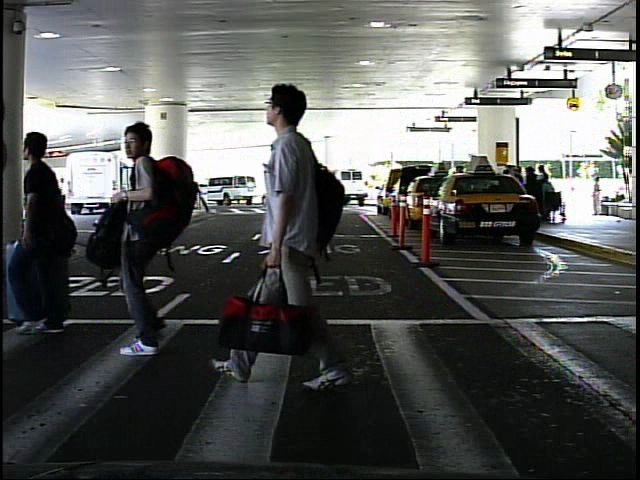person: (229, 66, 350, 393), (93, 113, 198, 362), (11, 115, 91, 355), (588, 174, 607, 219)
